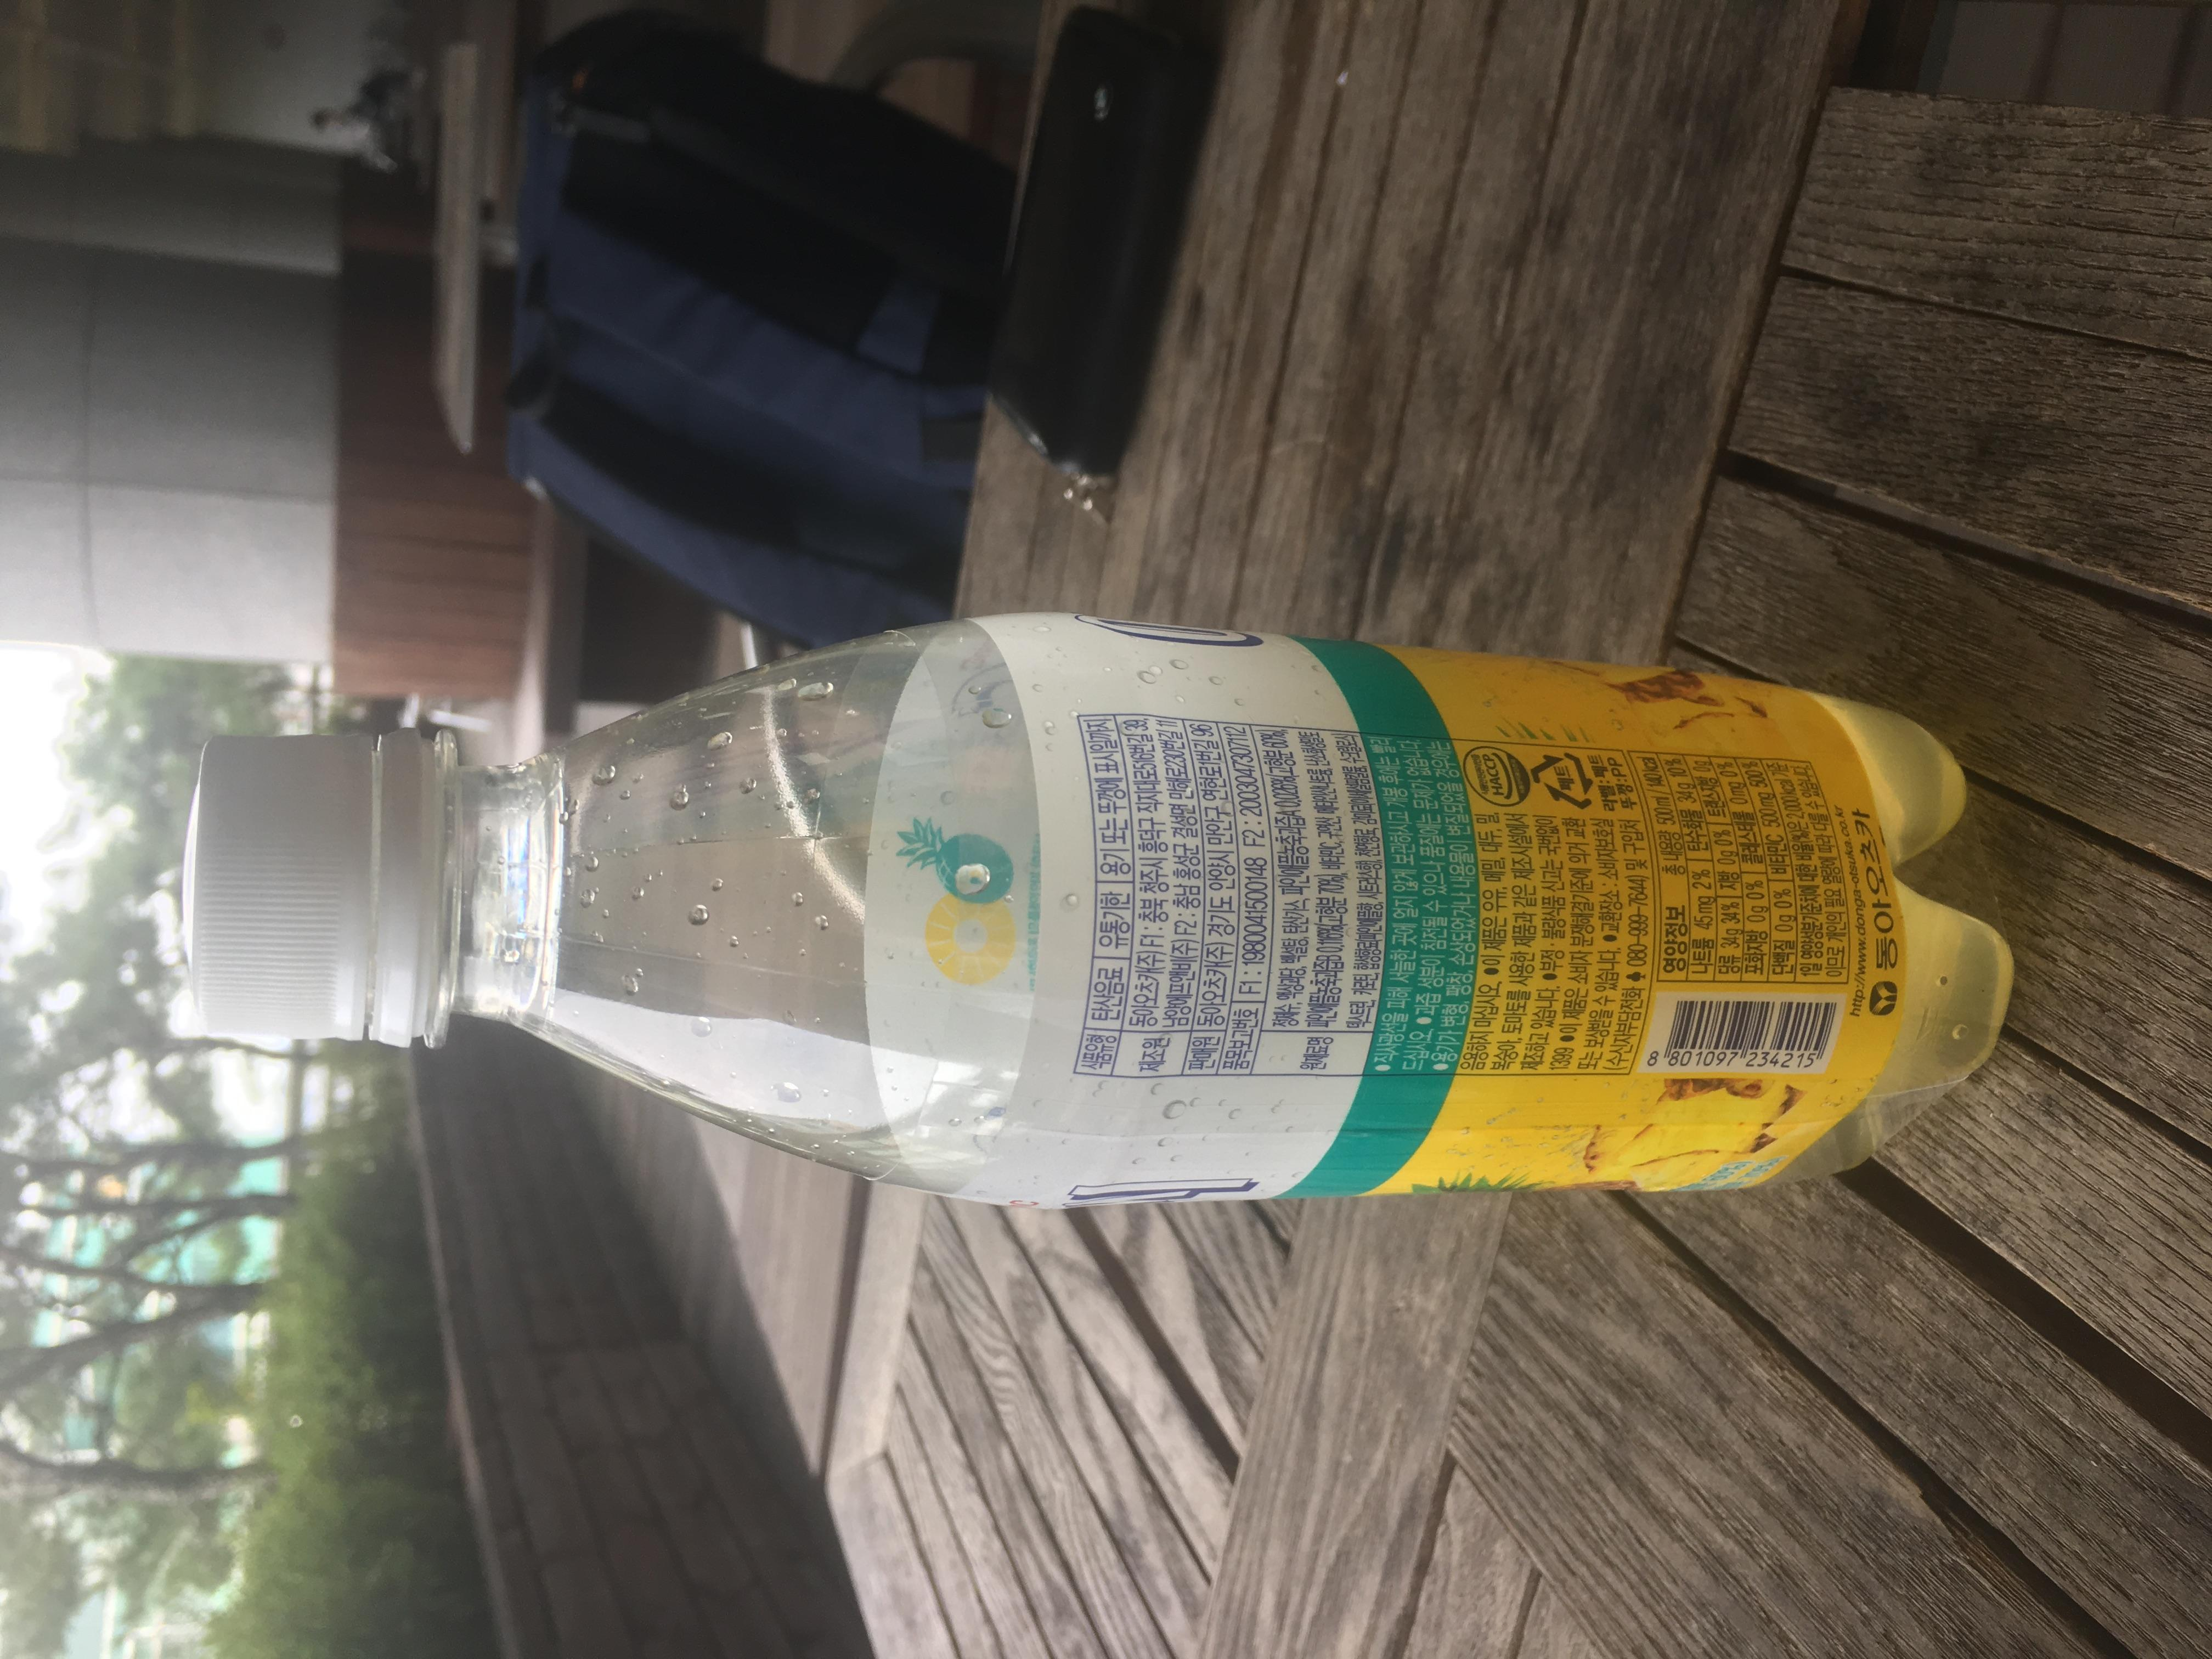bottle: (535, 633, 1400, 701)
